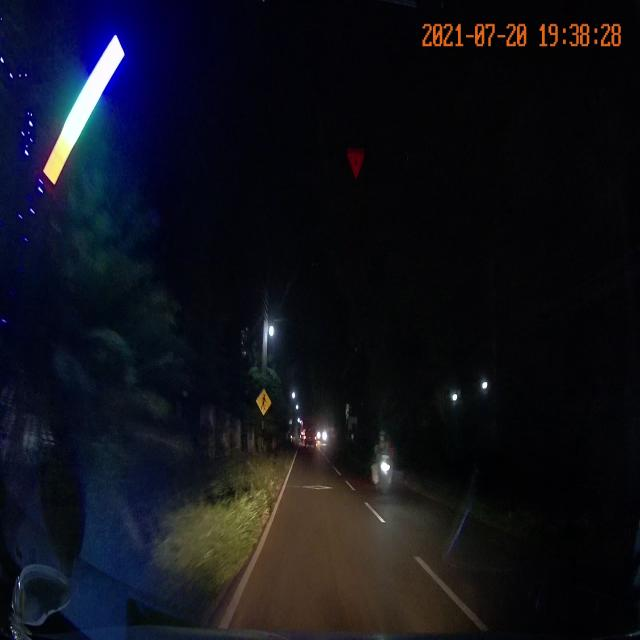diamond: (278, 477, 362, 494)
